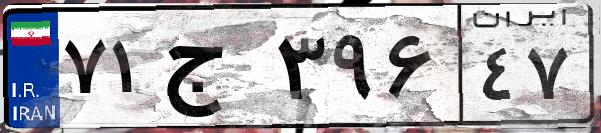1: (110, 28, 158, 98)
3: (270, 28, 330, 110)
4: (475, 38, 525, 113)
6: (385, 28, 445, 110)
7: (57, 26, 110, 100), (525, 38, 570, 115)
9: (330, 28, 385, 110)
ج: (158, 20, 270, 120)
